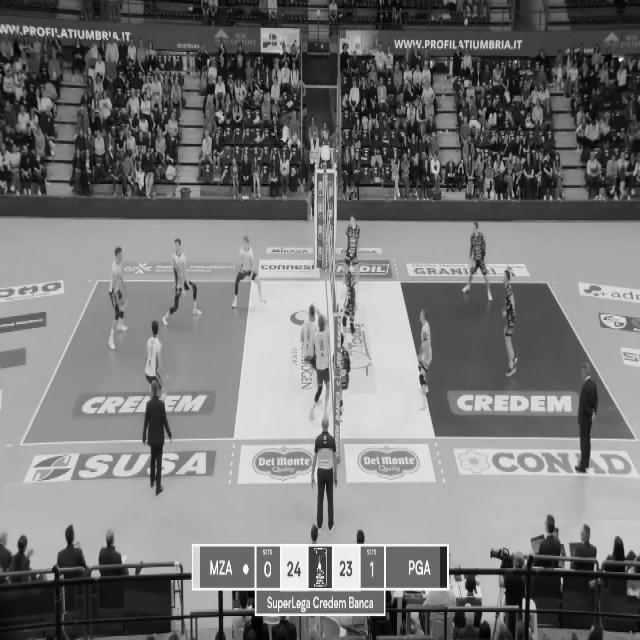volleyball court: (21, 279, 640, 444)
